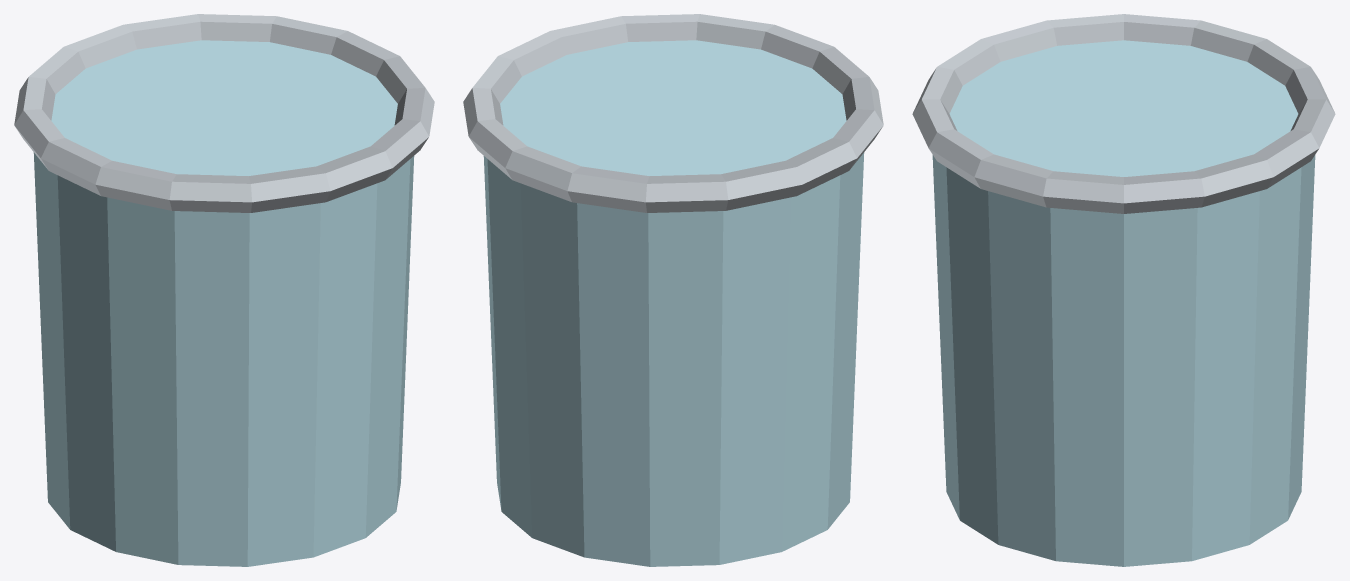
File: lab_beaker.glb
3 renders of one model, left to right at view 1: azimuth 30°, elevation 25°; view 2: azimuth 150°, elevation 25°; view 3: azimuth 270°, elevation 25°, orthographic.
Visible parts, largest first — view 1: Borosilicate, MetalBody; view 2: Borosilicate, MetalBody; view 3: Borosilicate, MetalBody.
Boxes of the visible parts, <box> form: Borosilicate: <box>33,40,414,566</box>; MetalBody: <box>14,14,434,212</box>; Borosilicate: <box>483,40,864,566</box>; MetalBody: <box>463,14,883,212</box>; Borosilicate: <box>932,40,1315,566</box>; MetalBody: <box>912,14,1335,213</box>.
Bounding box in the file's own units: 0.274 × 0.2804 × 0.274.
